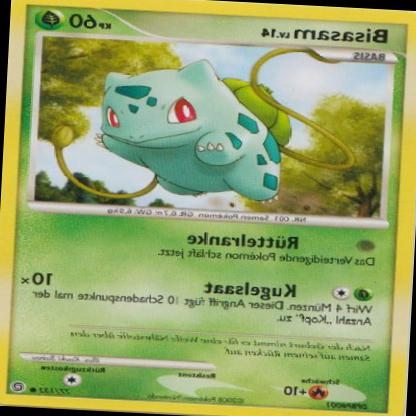Bulbasaur: (49, 51, 376, 216)
